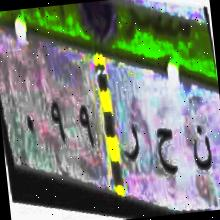0: (24, 102, 38, 144)
7aa: (150, 112, 180, 185)
9: (47, 90, 69, 154), (78, 98, 96, 154)
noon: (182, 108, 215, 178)
raa: (118, 113, 143, 170)
